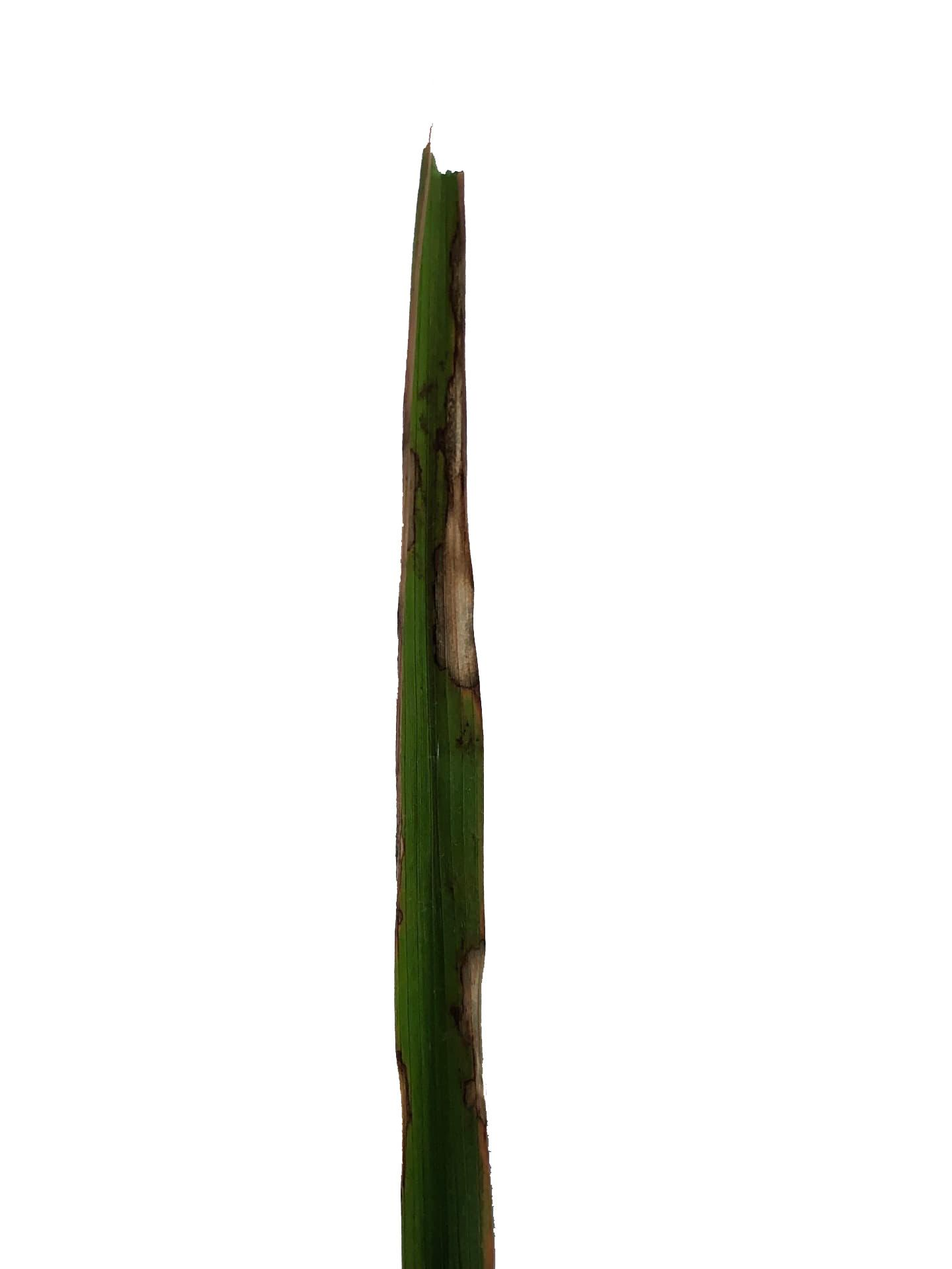Blight: (413, 364, 479, 727), (450, 919, 489, 1183)
